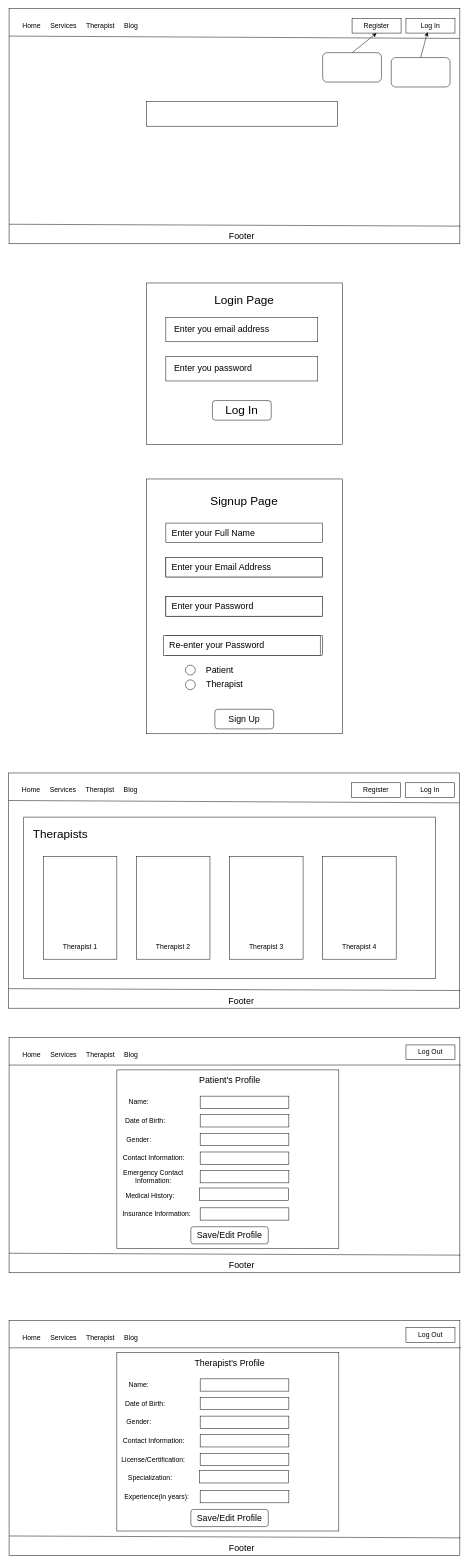
Image size: 470x1564. Some labels were removed from this diagram. Here are the shapes that lost their labels. From the top down, the centre of each, then its label:
point 351,67: Click for sign up page of website
point 420,72: Click for log in page of website
point 241,113: Search Bar
